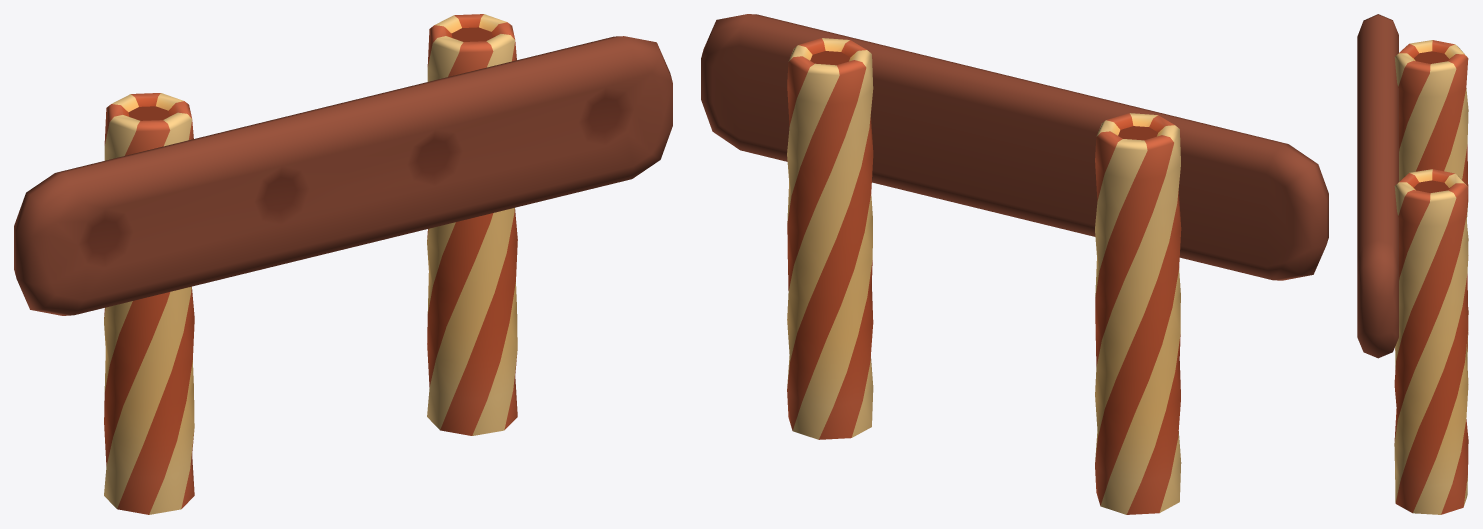
File: Fence_001.fbx
3 renders of one model, left to right at view 1: azimuth 30°, elevation 25°; view 2: azimuth 150°, elevation 25°; view 3: azimuth 270°, elevation 25°, orthographic. The views are drawn at different scales.
Parts seen in each view (by area): view 1: Fence_001; view 2: Fence_001; view 3: Fence_001.
Boxes of the visible parts, x1=… form: Fence_001: x1=14, y1=14, x2=672, y2=514; Fence_001: x1=701, y1=14, x2=1328, y2=514; Fence_001: x1=1357, y1=14, x2=1468, y2=514.
Bounding box in the file's own units: 2.79 × 1.58 × 0.5009.
